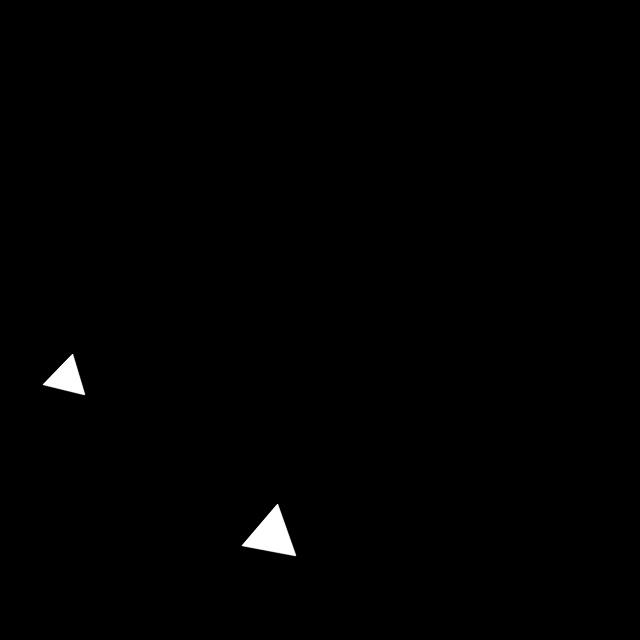Triangle: (231, 492, 309, 568), (34, 346, 92, 404)
